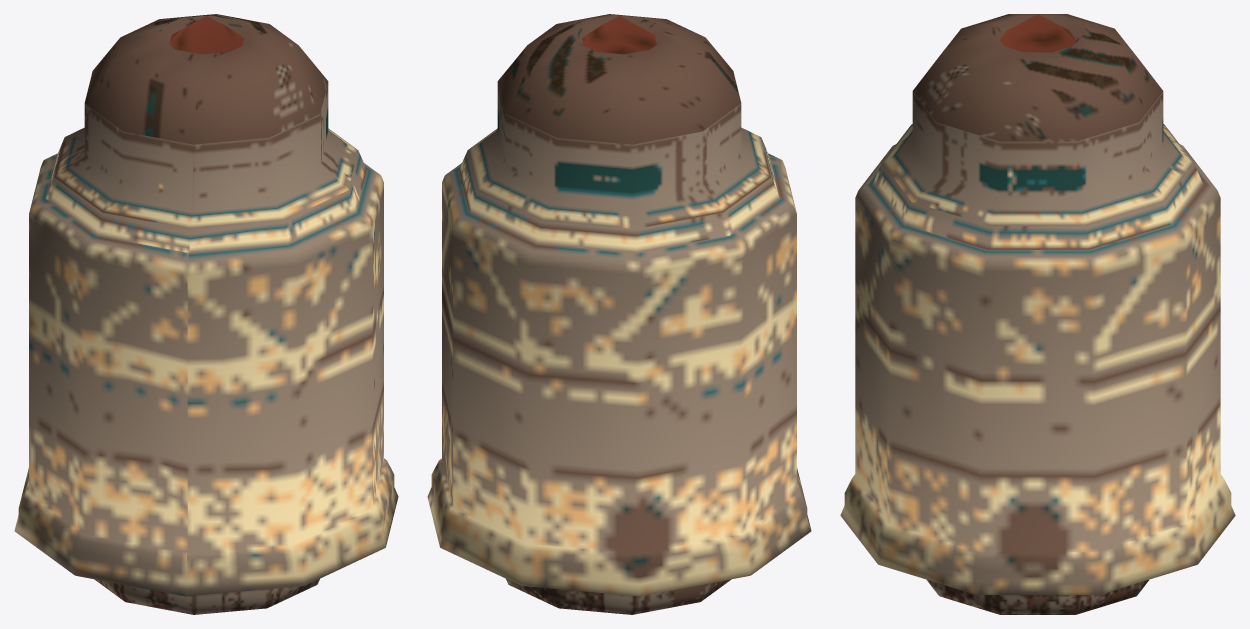
Rendered from SM_Ammo_01.fbx.
3 views of the same model, side by side, from view 1: azimuth 30°, elevation 25°; view 2: azimuth 150°, elevation 25°; view 3: azimuth 270°, elevation 25° (orthographic).
Parts seen in each view (by area): view 1: SM_Ammo_01; view 2: SM_Ammo_01; view 3: SM_Ammo_01.
Boxes of the visible parts, x1,y1,x2,y2 form: SM_Ammo_01: (14,14,398,614); SM_Ammo_01: (427,14,811,614); SM_Ammo_01: (840,14,1235,614).
Size of the model in its own units: 28.07 by 45.82 by 29.51.
